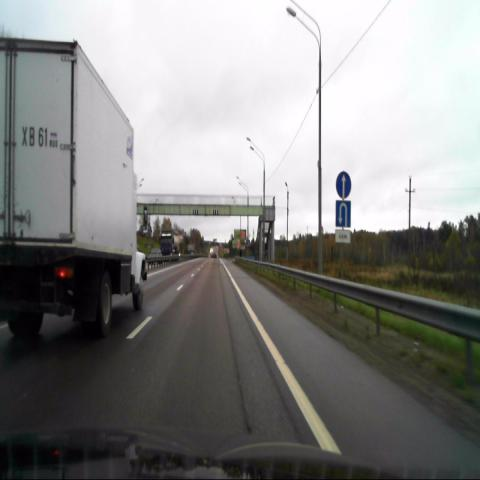6_3_1: (336, 200, 350, 226)
